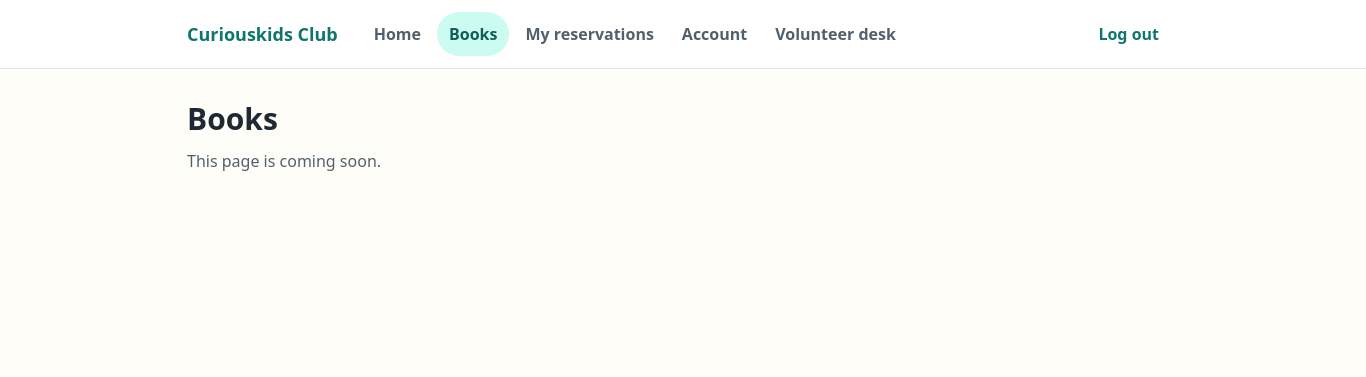
Test: route guards (FR-ID-03, FR-ID-07) › shows links by role and logs out back to the home page
Expected: the link "Volunteer desk" is shown, top-left (775, 23), bottom-right (896, 45)
Expected: the link "Log in" is not shown
Step 1. Click the button "Log out" → point(1129, 34), box top-left (1078, 12), bottom-right (1179, 56)
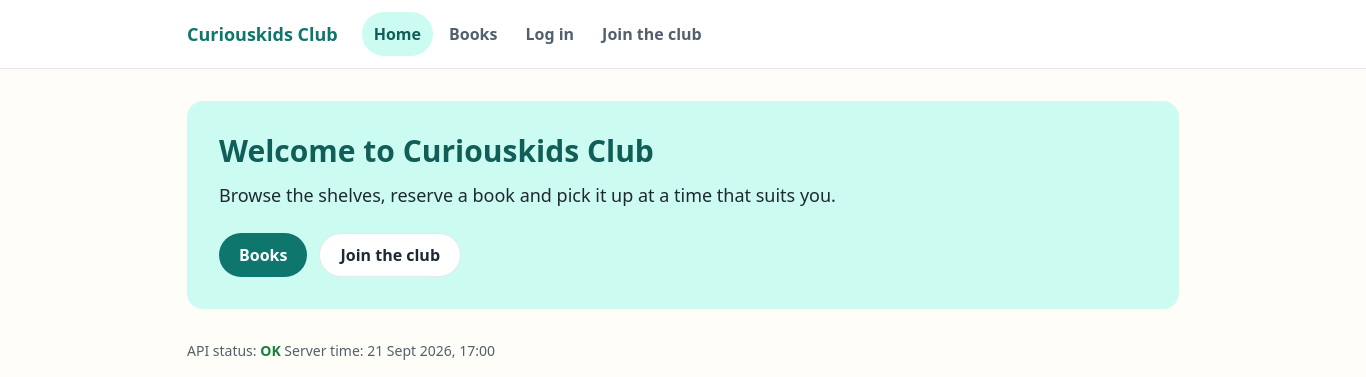
Expected: the link "Log in" is shown, top-left (526, 23), bottom-right (574, 45)
Expected: the button "Log out" is gone
